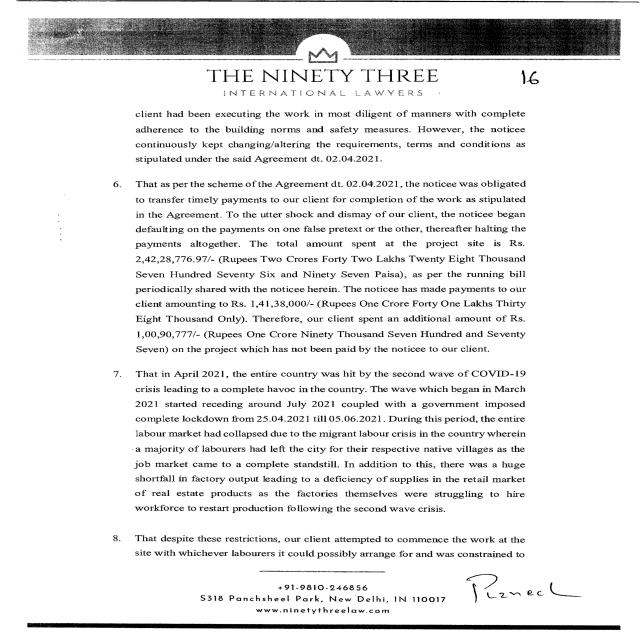page-number: (460, 62, 640, 106)
